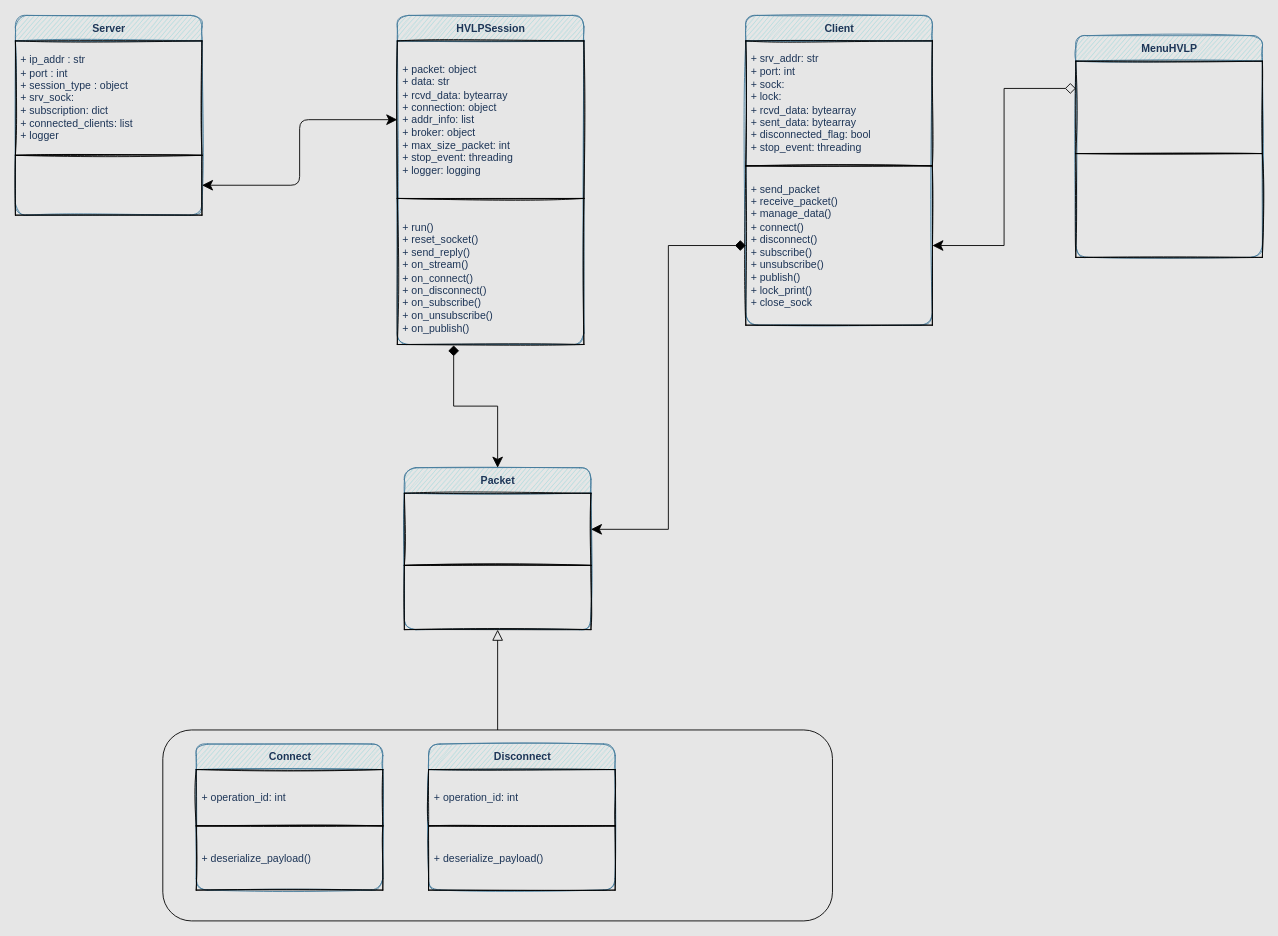
This 1278x936 diagram has some shape labels left out. Each missing label, with the centre of its shape:
+ lock_print() + choice() + take_topics() + publish_data(): point (1168, 205)
+ operation_id: int + lock: + client + connected_flag: bool: point (1168, 107)
+ packet: bytearray + length: int + payload: bytes + operation_id: int: point (497, 528)
+ run(): point (108, 184)
+ serialize() + deserialize(): point (497, 597)
